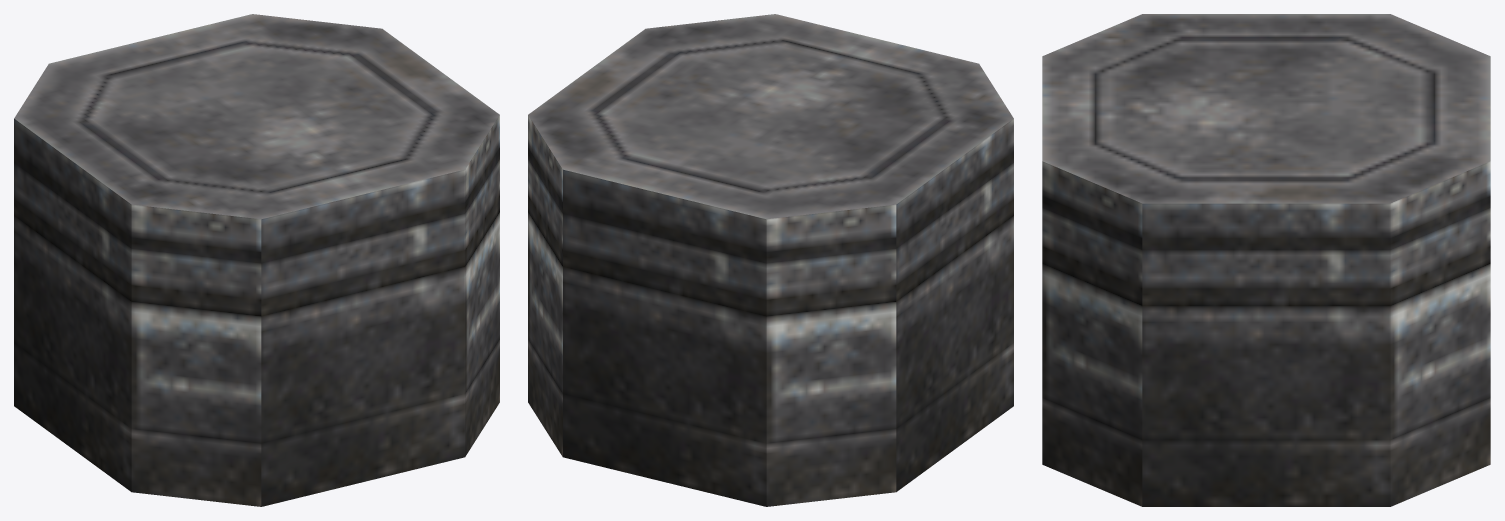
The picture shows the model from 3 angles, left to right: view 1: azimuth 30°, elevation 25°; view 2: azimuth 150°, elevation 25°; view 3: azimuth 270°, elevation 25°; orthographic projection. The views are drawn at different scales.
Parts seen in each view (by area): view 1: wj4; view 2: wj4; view 3: wj4.
Part boxes in pixels (left/top/right/bottom): wj4: left=14, top=14, right=499, bottom=506; wj4: left=528, top=14, right=1013, bottom=506; wj4: left=1042, top=14, right=1490, bottom=506.
Bounding box in the file's own units: 254 × 190 × 254.
